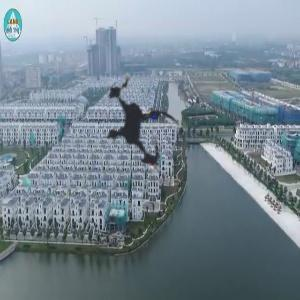drone: (46, 35, 226, 215)
